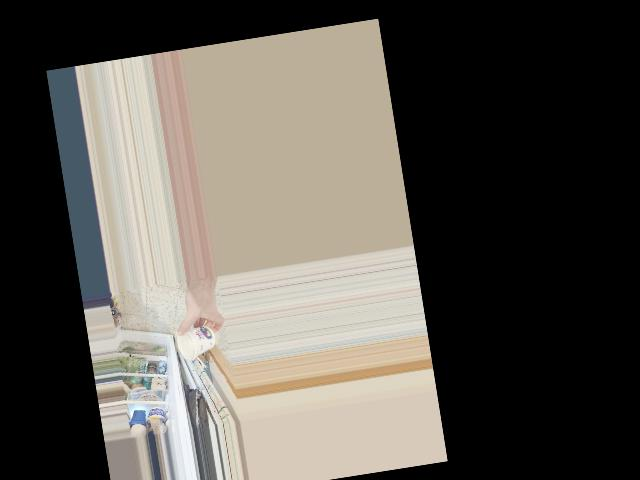cotage: (172, 318, 219, 363)
